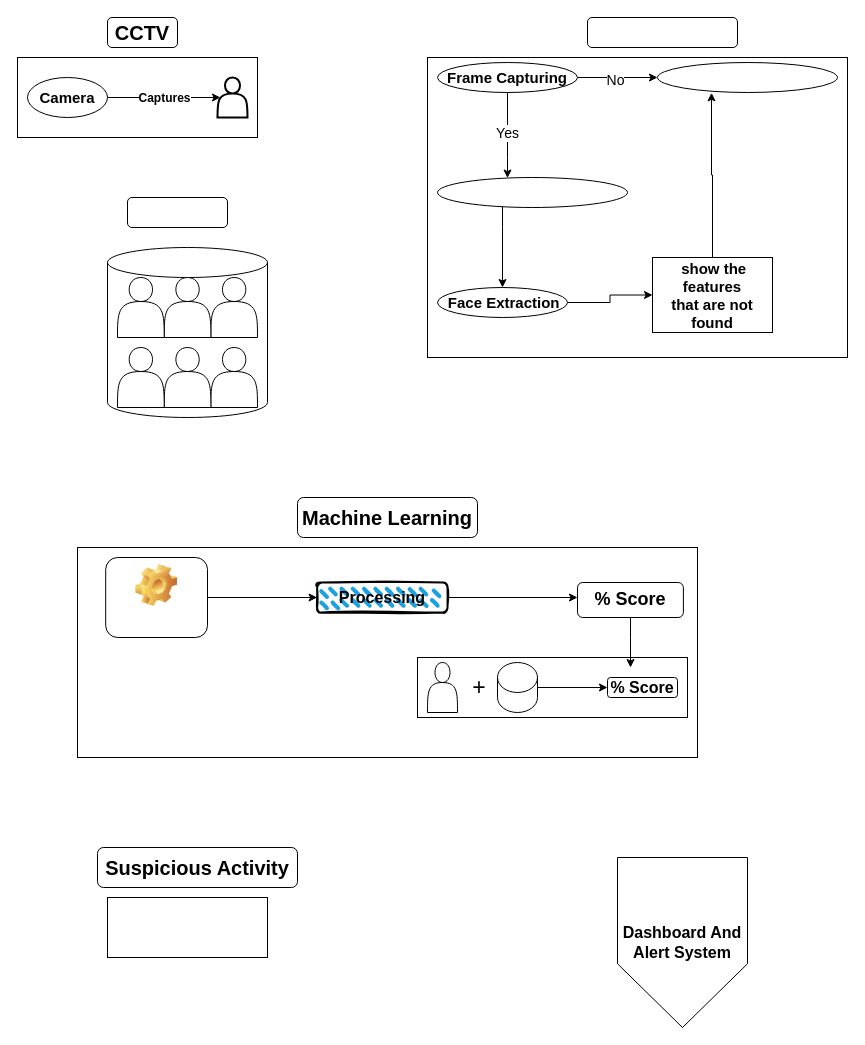
Some shapes in this 865 by 1045 pixel diagram are drawn without their labels. Each missing label, with the centre of its shape:
"Database" belongs at (x=177, y=212).
"Face Preprocessing" belongs at (x=532, y=192).
"Glass Breaking Fire Accident" belongs at (x=187, y=927).
"NN+ML+DL" belongs at (x=156, y=597).
"Pre Processing" belongs at (x=662, y=32).
"Recapture Frame" belongs at (x=747, y=77).
